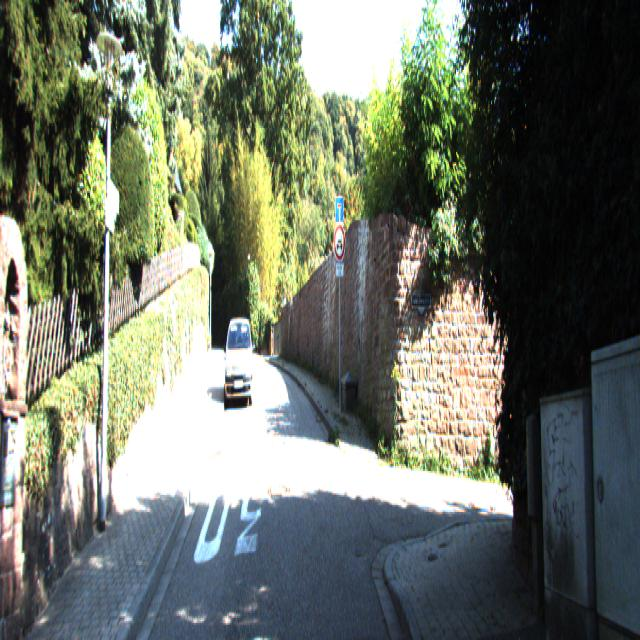Car: (224, 313, 254, 411), (230, 316, 251, 367)
